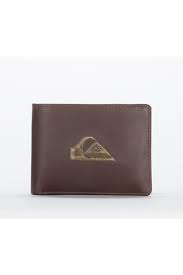monedero: (30, 103, 153, 196)
